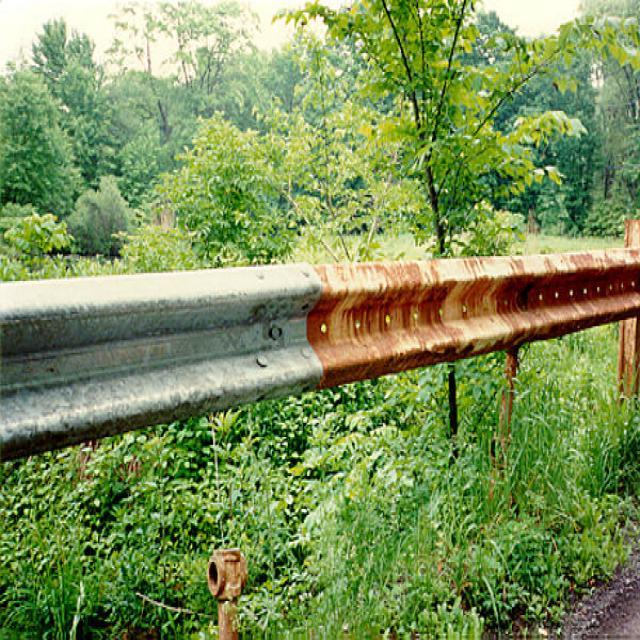Corrosion: (424, 250, 640, 358), (309, 262, 450, 386), (207, 550, 247, 640)
